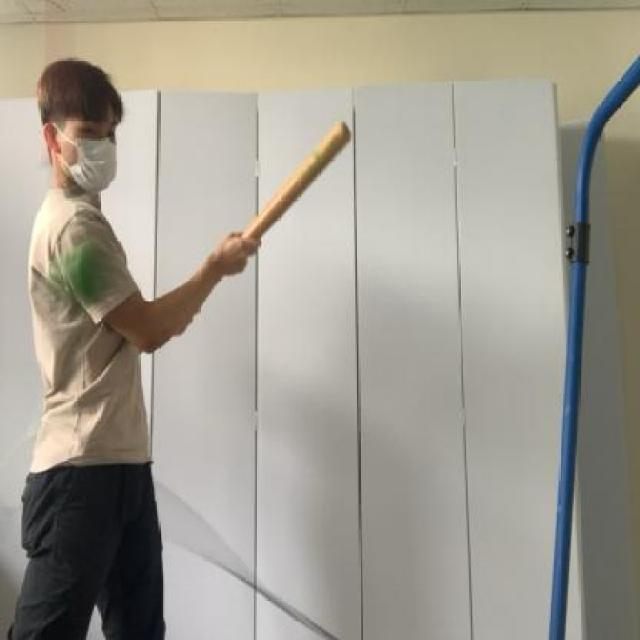baseball: (44, 232, 113, 310)
